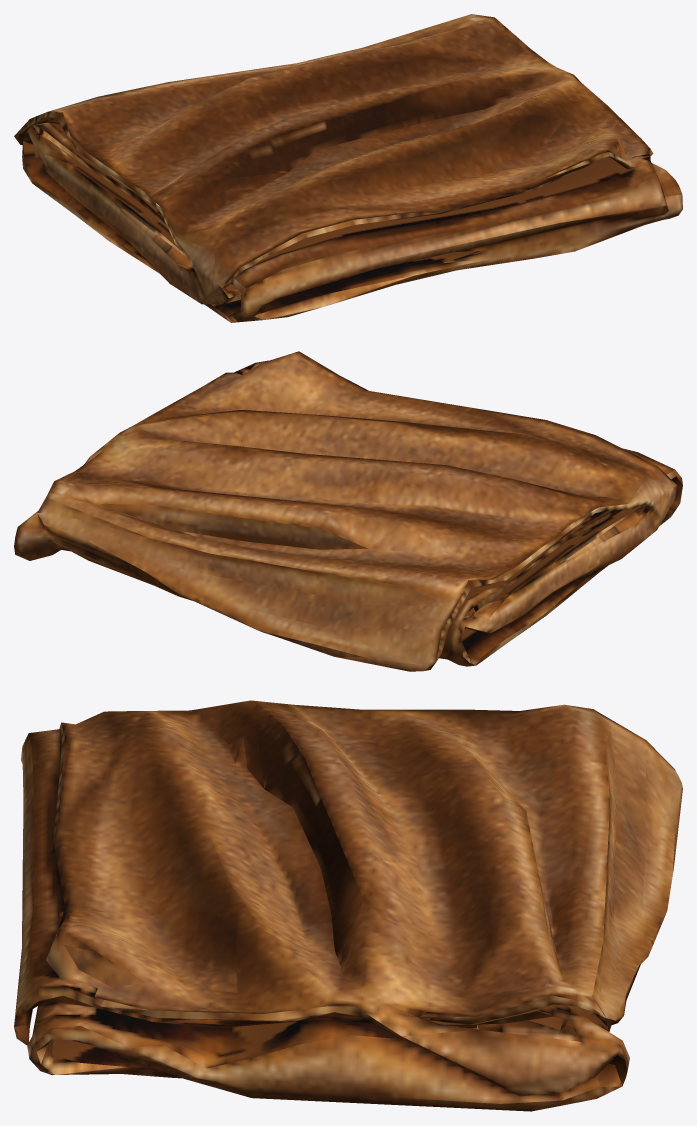
File: item_6cape1.glb
The picture shows the model from 3 angles, top to bottom: view 1: azimuth 30°, elevation 25°; view 2: azimuth 150°, elevation 25°; view 3: azimuth 270°, elevation 25°; orthographic projection. The views are drawn at different scales.
Visible parts, largest first — view 1: equipment_6cape1; view 2: equipment_6cape1; view 3: equipment_6cape1.
Part boxes in pixels (x1,y1,x2,y2): equipment_6cape1: (14,14,682,322); equipment_6cape1: (14,351,682,671); equipment_6cape1: (14,700,682,1111).
Size of the model in its own units: 1.01 by 0.2111 by 0.899.
1 material, 1 textured.
